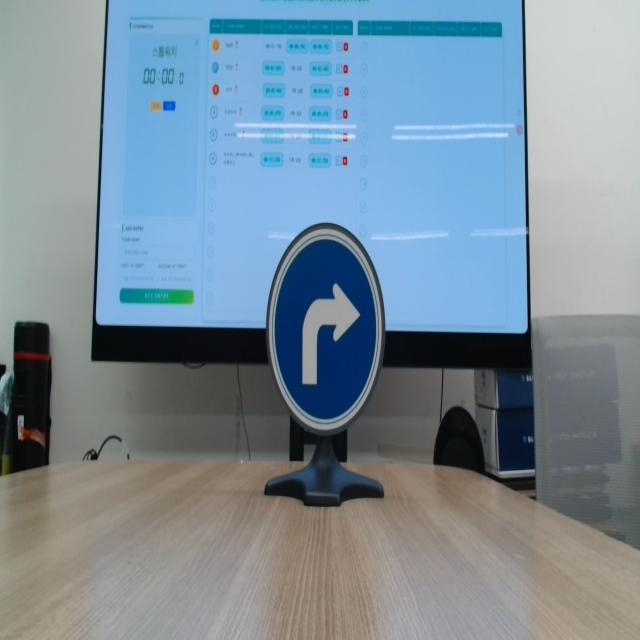right_dierection: (264, 217, 388, 438)
